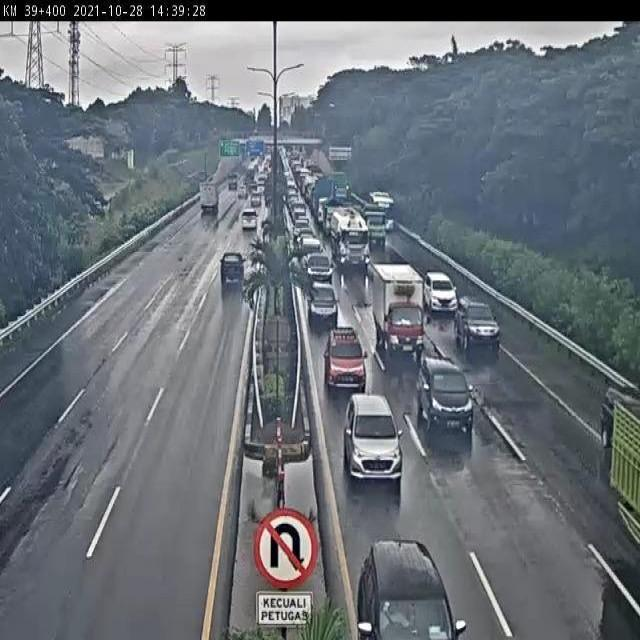car: (352, 530, 456, 640), (334, 380, 407, 487), (403, 347, 477, 443), (577, 371, 635, 452), (322, 324, 368, 392), (453, 291, 501, 356), (210, 247, 249, 292), (425, 270, 458, 318), (306, 276, 338, 325), (301, 250, 335, 286), (237, 205, 264, 243), (242, 190, 269, 210), (232, 181, 252, 200)
truck: (601, 380, 640, 559), (369, 264, 430, 359), (321, 203, 374, 275), (357, 197, 389, 244), (194, 173, 224, 216)
